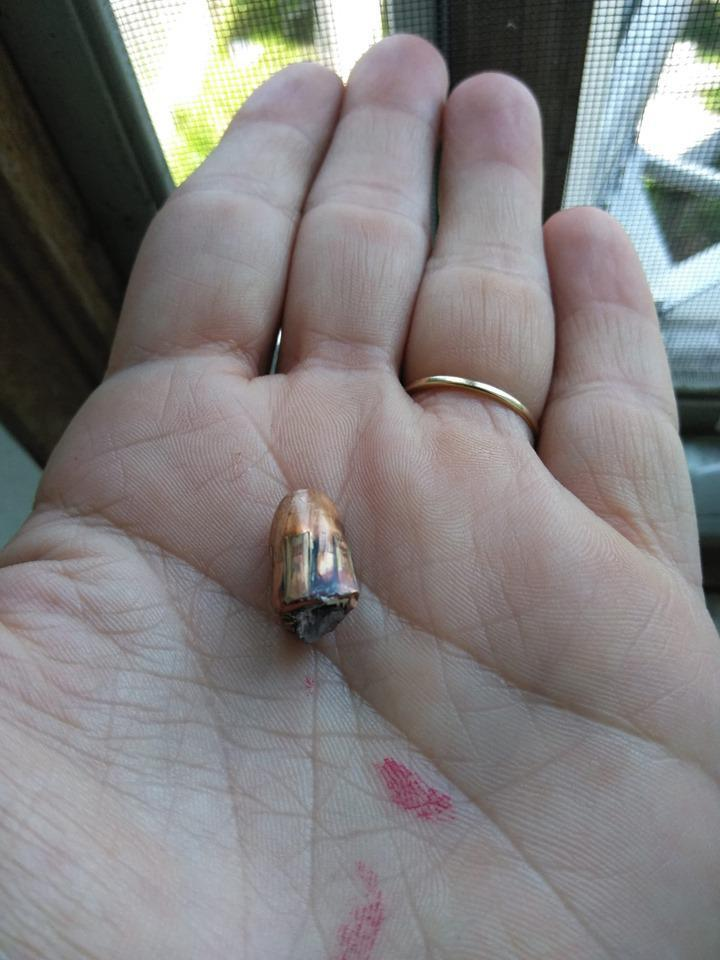Bullet: (255, 470, 369, 649)
